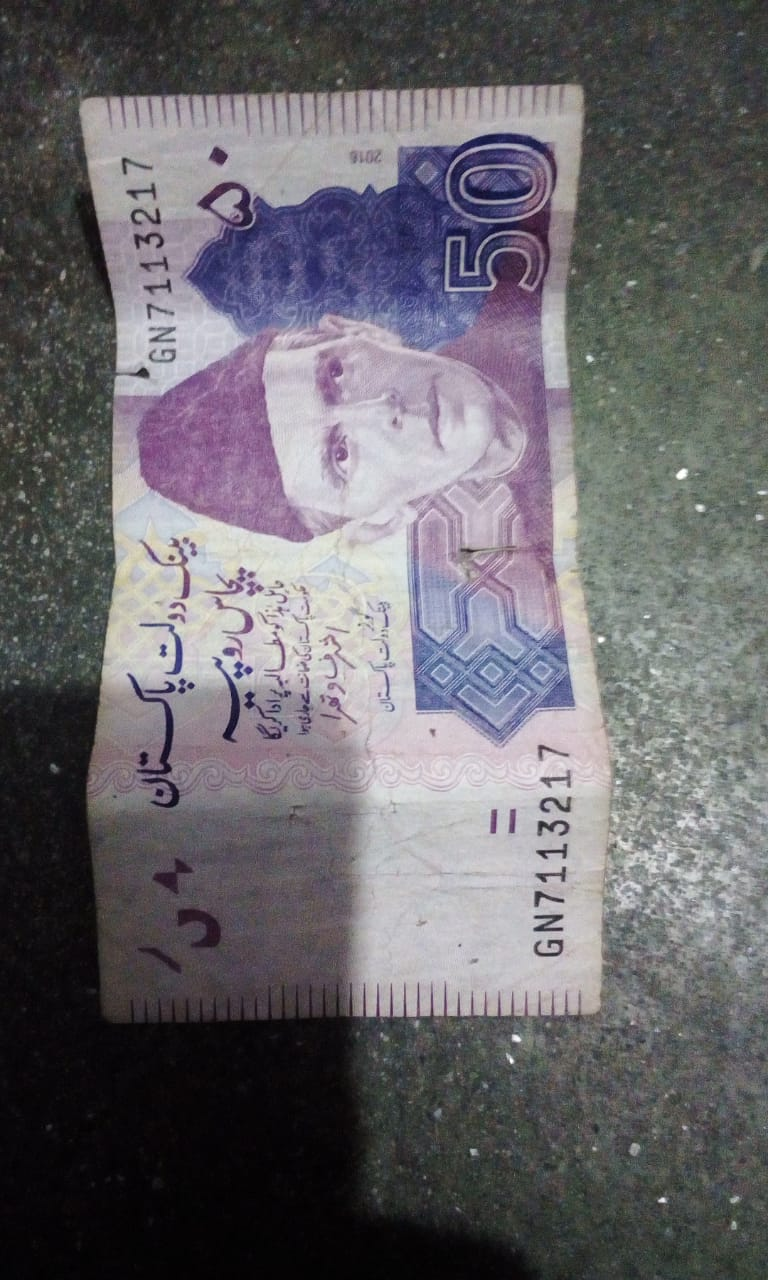50 rupee: (46, 52, 640, 1111)
